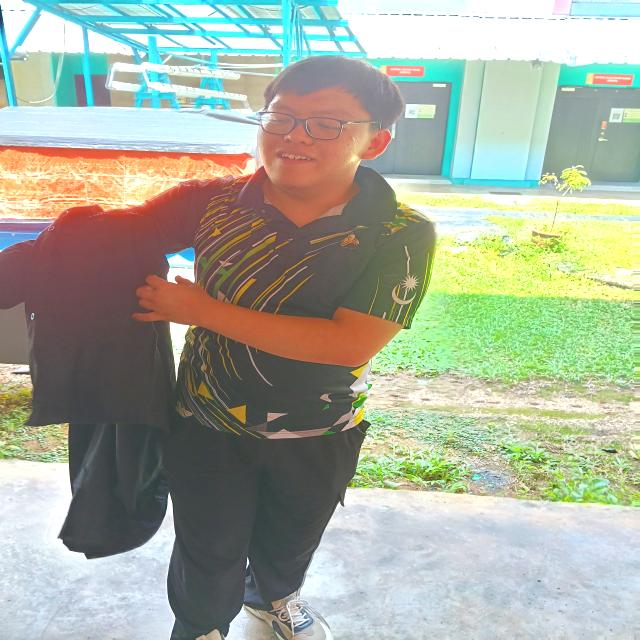person_without_labcoat: (0, 57, 436, 640)
